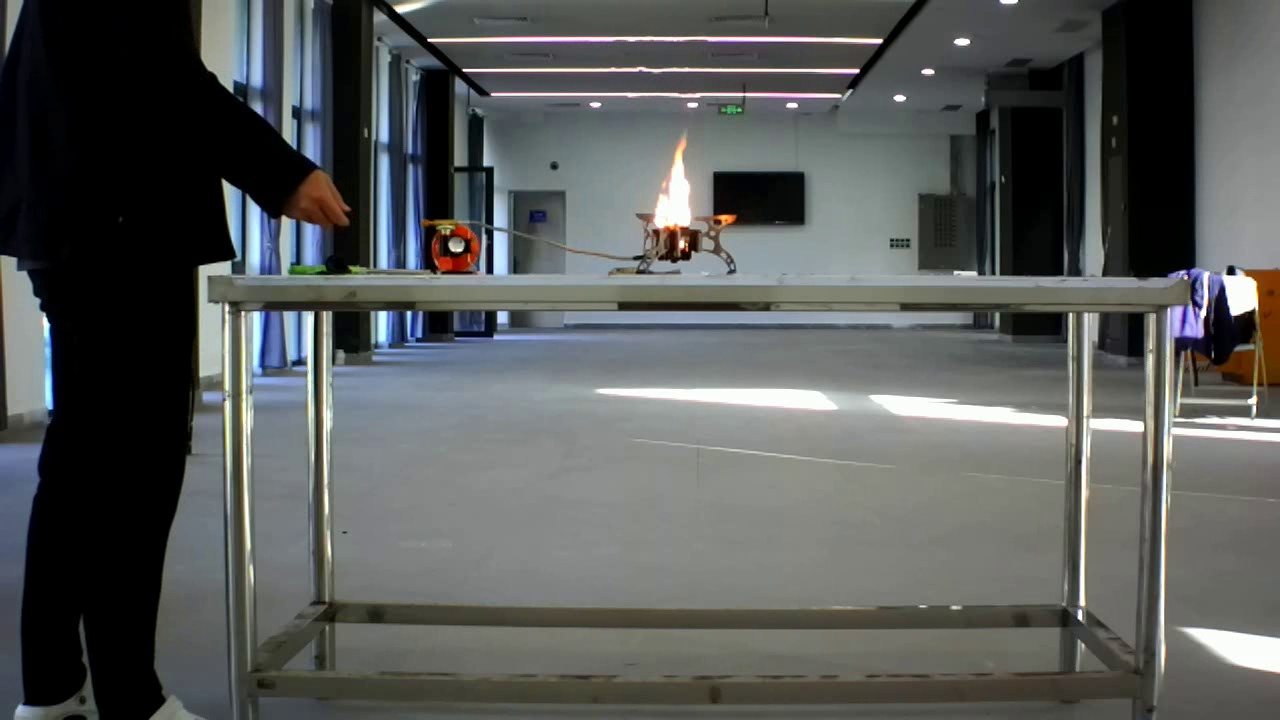Fire: (634, 126, 743, 266)
